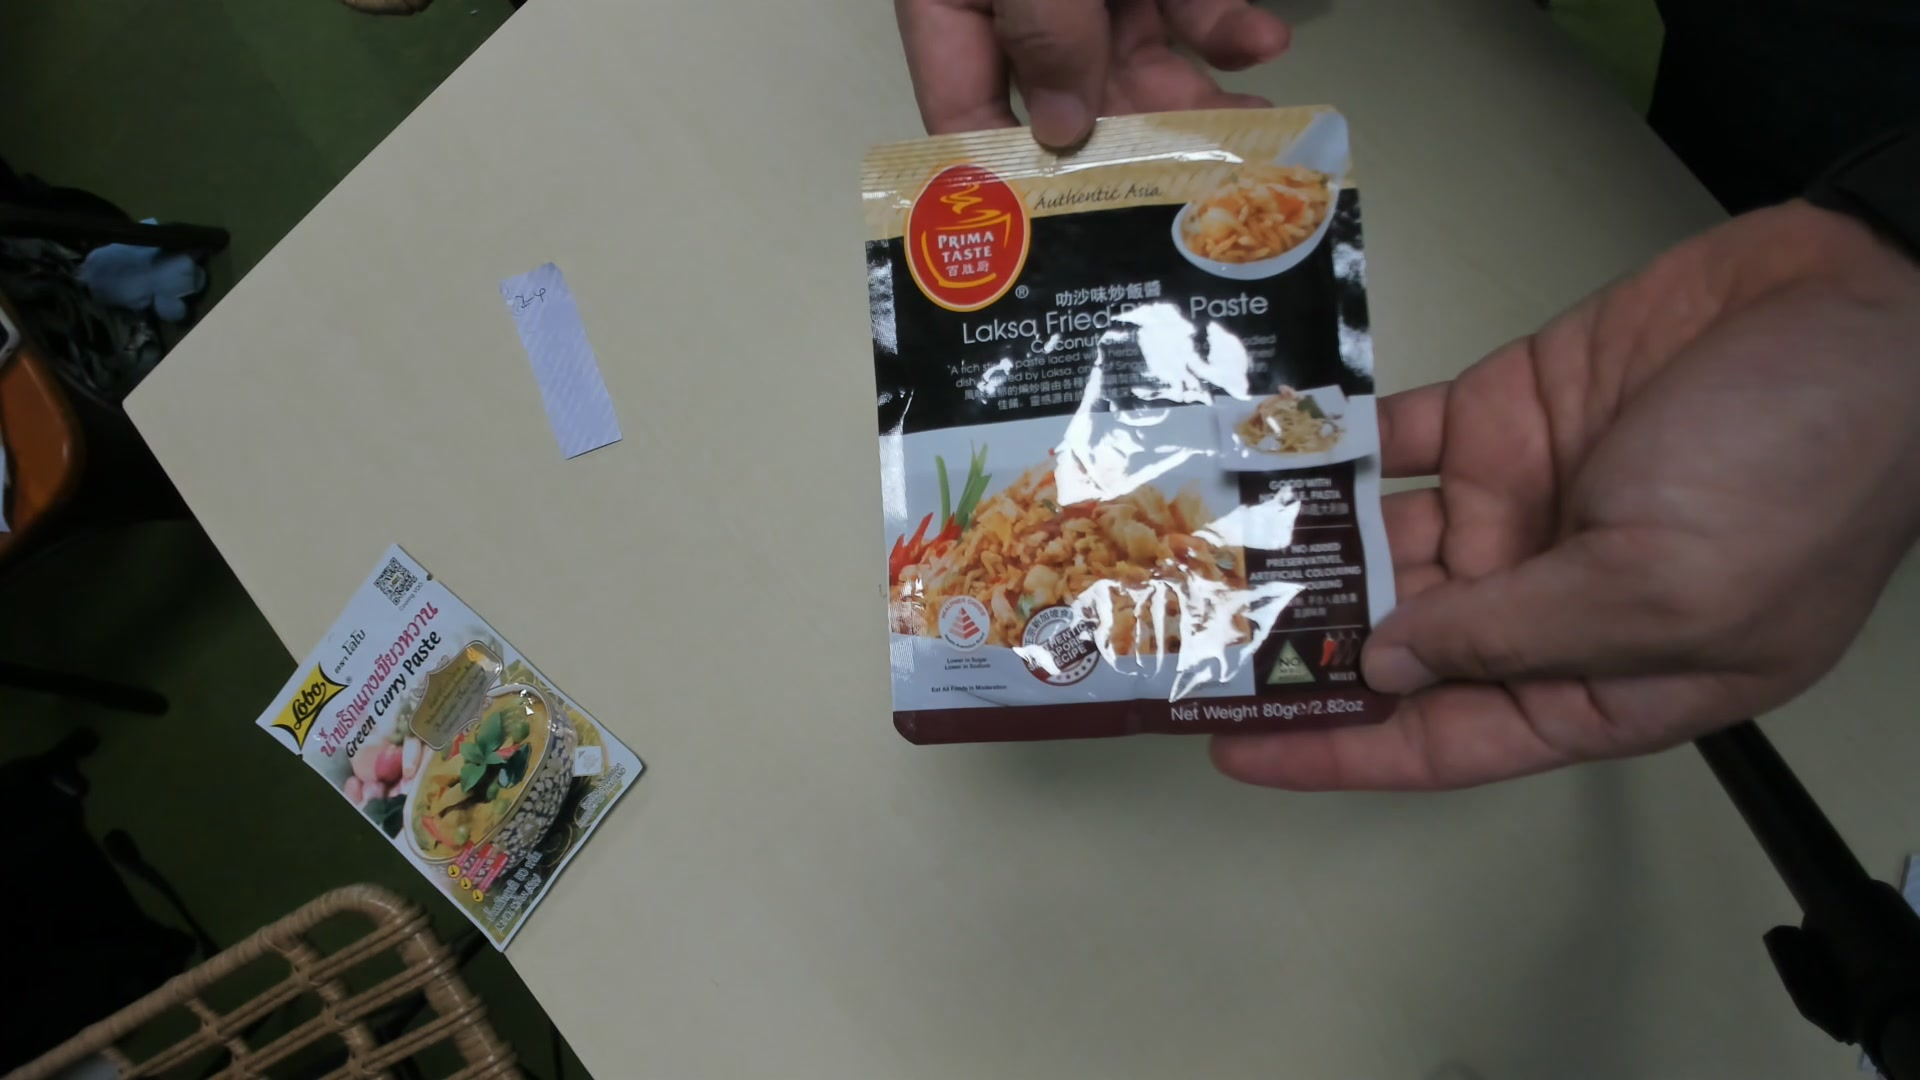OtherSauceDressing_0-99g_Halal_NonHealthy: (866, 105, 1396, 742)
